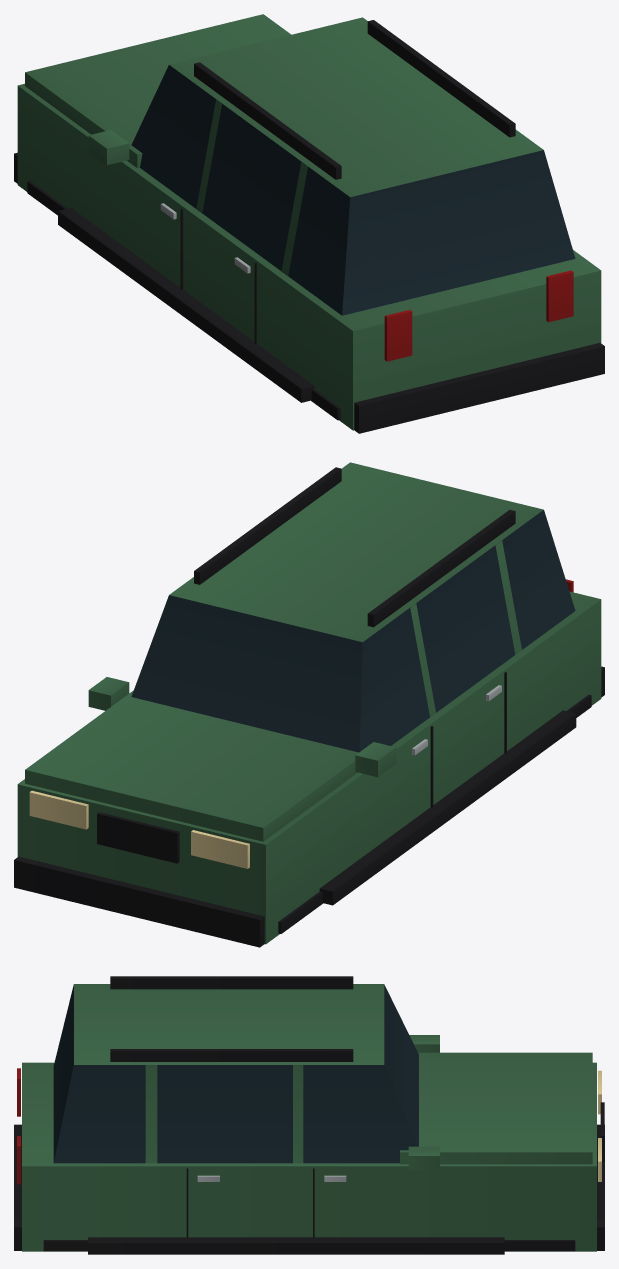
Rendered from courier-awd.glb.
3 views of the same model, one above another, from view 1: azimuth 30°, elevation 25°; view 2: azimuth 150°, elevation 25°; view 3: azimuth 270°, elevation 25° (orthographic). The views are drawn at different scales.
Visible parts, largest first — view 1: Body; view 2: Body; view 3: Body.
Part boxes in pixels (x1,y1,x2,y2): Body: (14, 14, 604, 433); Body: (14, 462, 604, 947); Body: (14, 976, 604, 1254).
Size of the model in its own units: 2.19 by 1.6 by 4.53.
2 materials, 2 textured.
